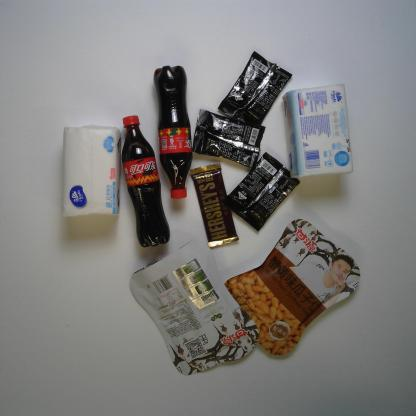Chocolate: (191, 154, 241, 248)
Dried Fruit: (220, 219, 361, 356), (134, 231, 264, 374)
Drink: (115, 108, 178, 250), (154, 66, 192, 200)
Instant Drink: (225, 148, 301, 232), (225, 46, 290, 133), (191, 108, 266, 171)
Tissue: (282, 82, 362, 182), (64, 124, 123, 218)
